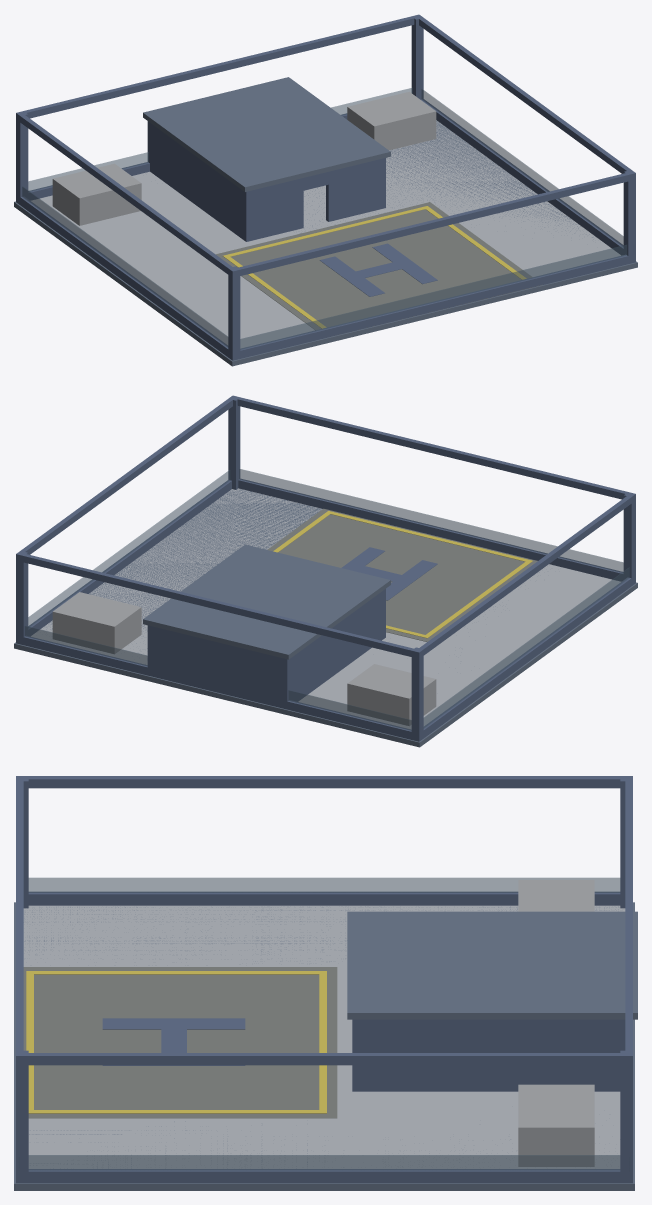
File: office-roof-a.skyline-v2.lod1.glb
3 renders of one model, top to bottom at view 1: azimuth 30°, elevation 25°; view 2: azimuth 150°, elevation 25°; view 3: azimuth 270°, elevation 25°, orthographic. The views are drawn at different scales.
Parts seen in each view (by area): view 1: office-roof-a; view 2: office-roof-a; view 3: office-roof-a.
Part boxes in pixels (box(x1,y1,x2,y2)): office-roof-a: box(14, 14, 637, 366); office-roof-a: box(14, 395, 637, 747); office-roof-a: box(14, 776, 637, 1190).
Bounding box in the file's own units: 26.16 × 5.8 × 24.48.
